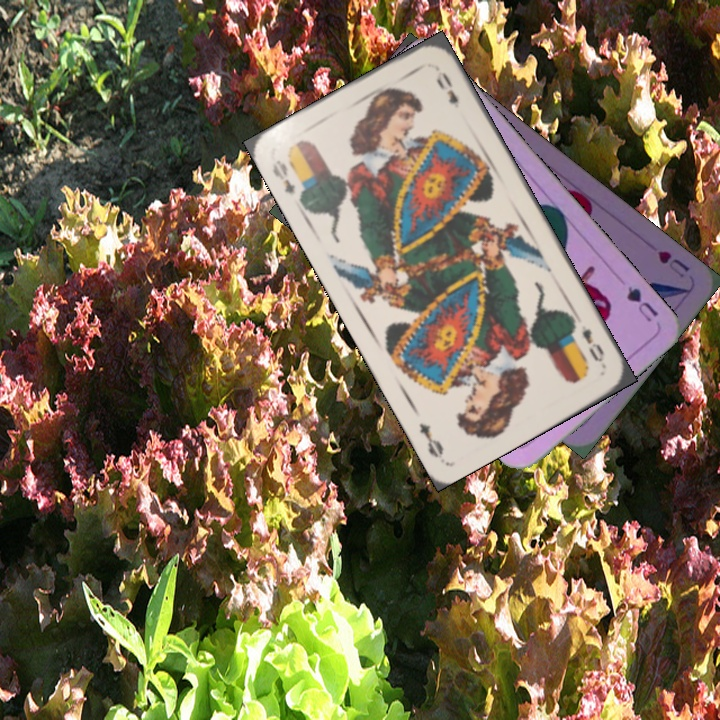EO: (569, 317, 607, 365), (268, 155, 298, 196)
GU: (622, 281, 661, 325)
HU: (653, 246, 693, 280)
